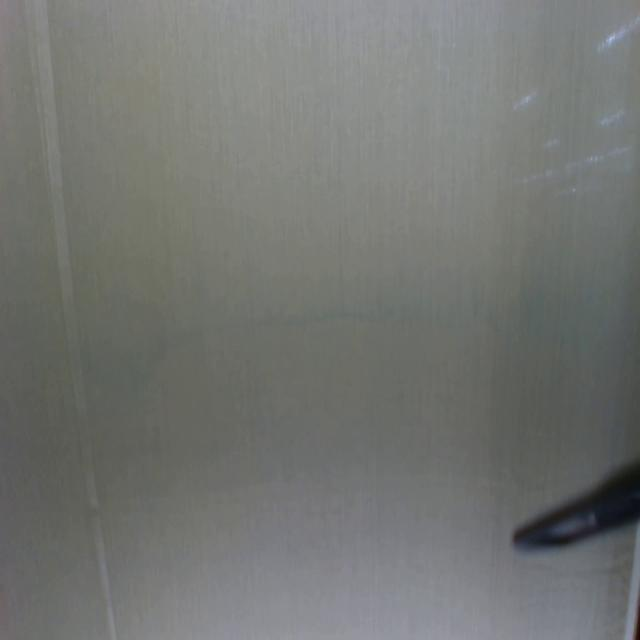color bleeding: (3, 295, 554, 509)
crease: (21, 0, 116, 639)
